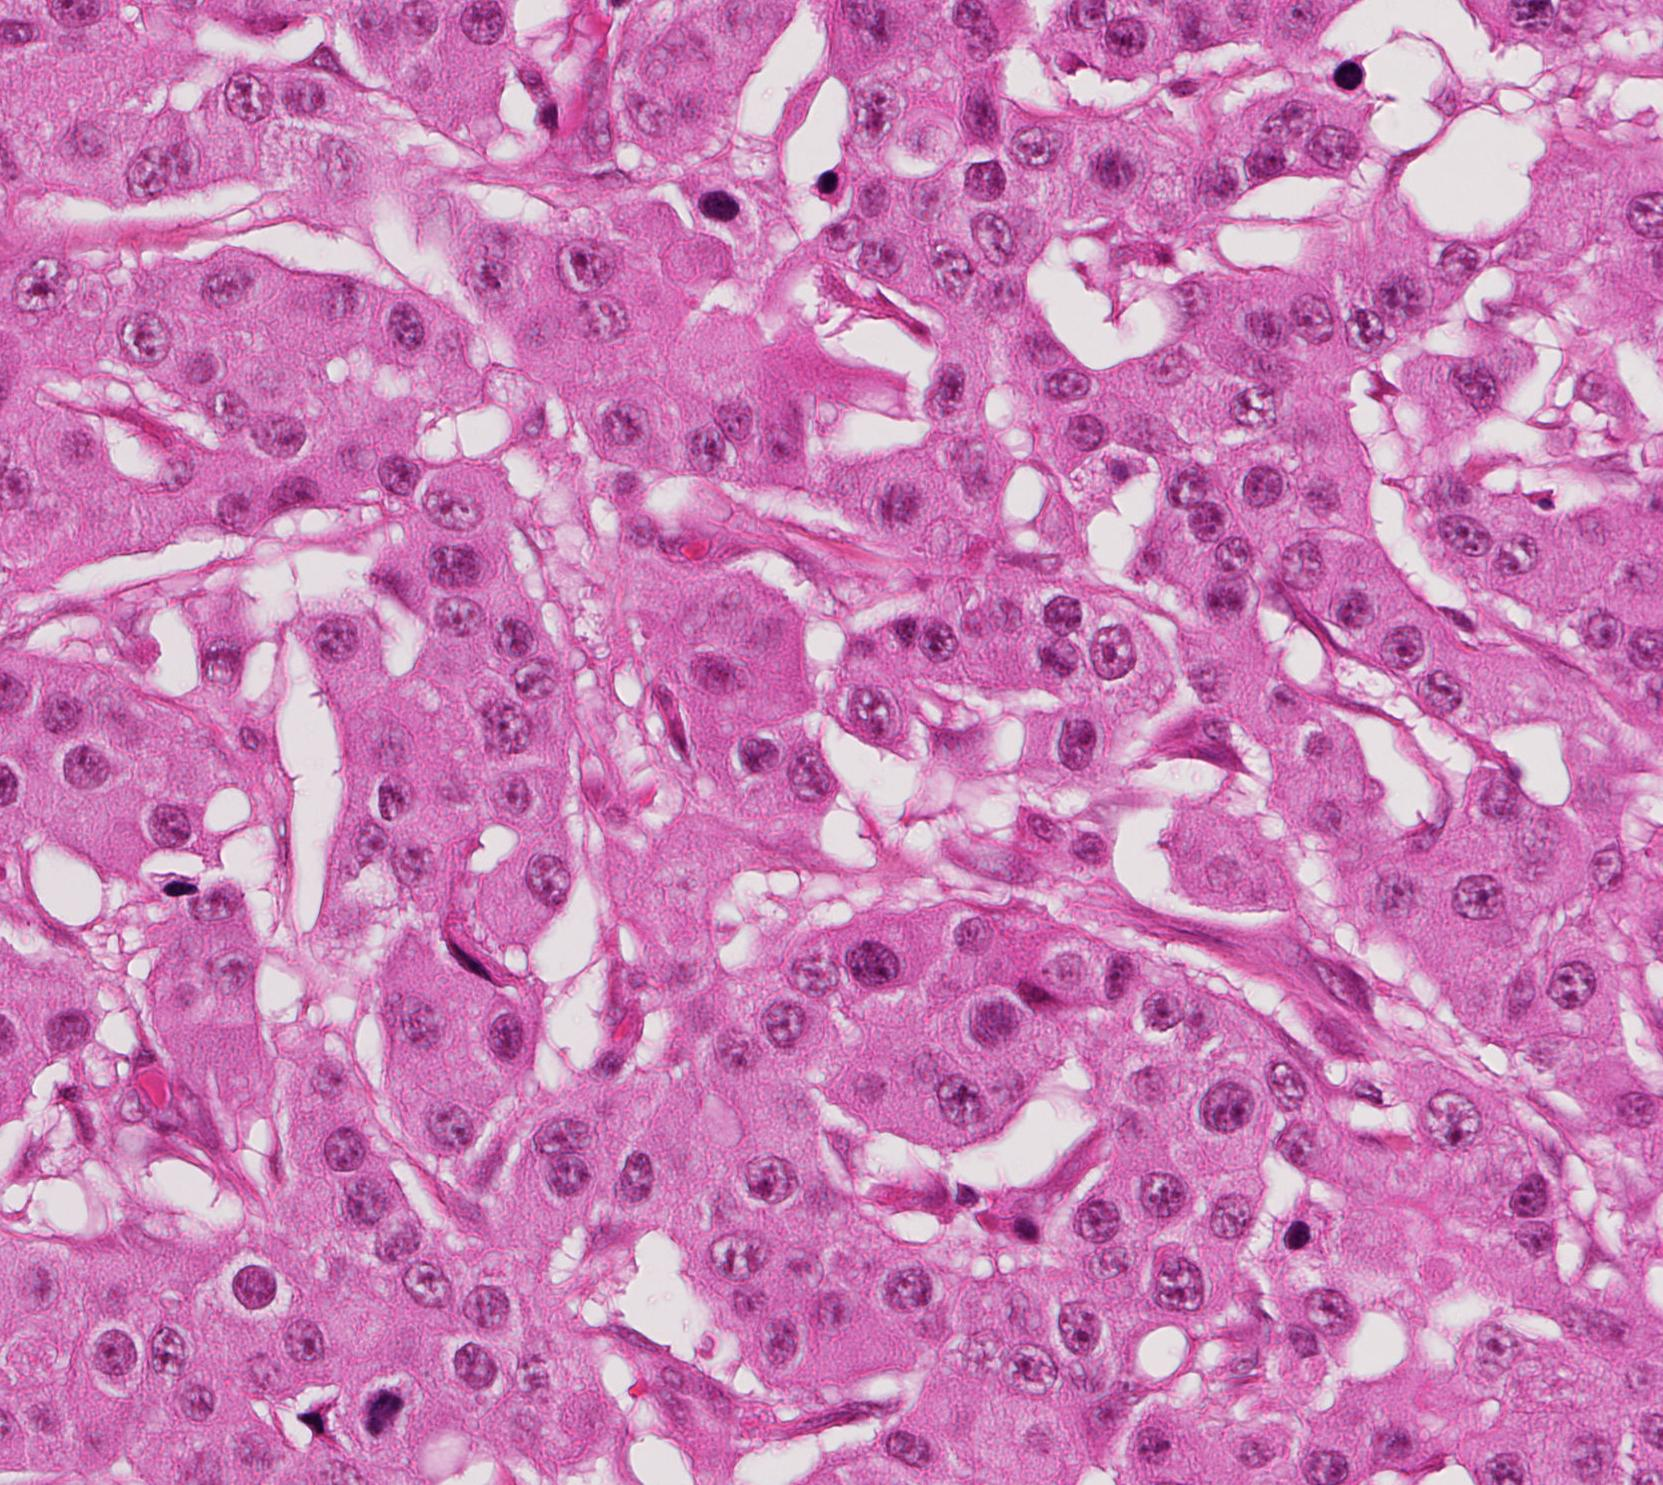mitosis: (356, 1377, 416, 1438)
